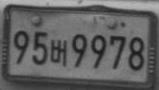5: (32, 31, 48, 65)
7: (109, 35, 126, 69)
8: (127, 36, 145, 71)
9: (90, 33, 107, 69), (12, 29, 29, 64), (70, 33, 87, 68)
버: (49, 38, 67, 66)
